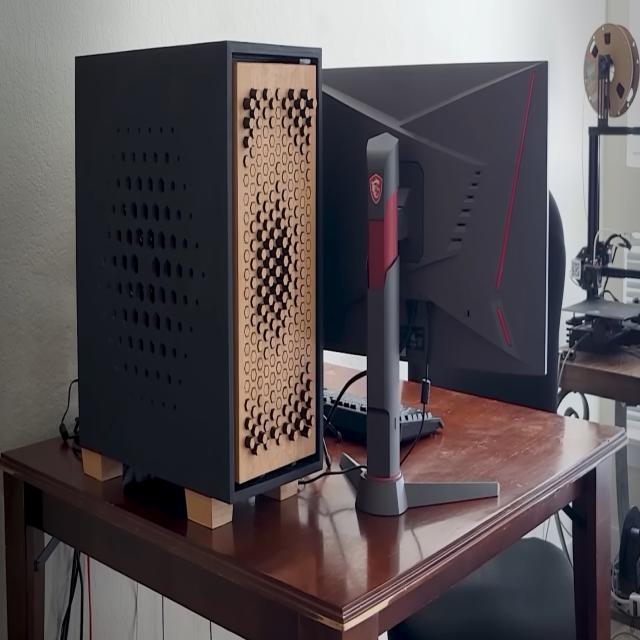computers: (323, 63, 548, 513), (420, 379, 428, 409), (415, 429, 421, 439), (410, 450, 410, 450)
electronics: (76, 42, 322, 502), (323, 63, 547, 383), (340, 132, 499, 515), (325, 133, 441, 513), (231, 60, 322, 483), (433, 192, 565, 410), (565, 23, 640, 359), (567, 23, 640, 351), (570, 23, 640, 298), (356, 132, 403, 513), (340, 452, 499, 515), (564, 234, 640, 352), (569, 209, 640, 299), (569, 218, 638, 299), (583, 23, 640, 116), (569, 230, 632, 299), (564, 297, 640, 352), (123, 467, 188, 519), (567, 313, 640, 352), (618, 506, 640, 605), (617, 506, 640, 597), (60, 548, 83, 639), (61, 550, 83, 639), (618, 25, 640, 109), (563, 298, 640, 321), (331, 393, 367, 442), (399, 404, 442, 442), (59, 379, 81, 453), (59, 379, 81, 452), (569, 247, 601, 293), (323, 388, 366, 413), (554, 511, 572, 563), (34, 537, 60, 571), (611, 592, 640, 621), (59, 416, 81, 452), (589, 124, 640, 137), (397, 189, 409, 240), (558, 348, 575, 379), (323, 388, 339, 415), (577, 392, 589, 420), (589, 124, 619, 135), (42, 538, 59, 555), (420, 379, 430, 407), (557, 388, 571, 406), (564, 406, 580, 417), (341, 456, 355, 468), (590, 167, 598, 180), (624, 487, 628, 503), (86, 565, 89, 582), (414, 433, 419, 443), (367, 445, 369, 460), (592, 141, 598, 146), (36, 558, 39, 567), (43, 556, 46, 565), (616, 87, 619, 96), (341, 455, 343, 468), (87, 453, 91, 459), (80, 613, 82, 625), (87, 564, 89, 572), (209, 507, 211, 515), (70, 591, 72, 599), (593, 158, 596, 163), (187, 500, 189, 506), (592, 176, 595, 179), (608, 291, 611, 294), (591, 204, 594, 207), (566, 505, 570, 507), (590, 160, 591, 167), (590, 212, 593, 214), (404, 501, 405, 507), (564, 309, 570, 310), (356, 478, 359, 480), (623, 466, 625, 469), (435, 335, 437, 338), (589, 181, 591, 184), (628, 132, 634, 133), (562, 509, 564, 511), (566, 508, 568, 510), (65, 443, 67, 445), (637, 128, 640, 129), (352, 477, 353, 480), (624, 480, 625, 483), (585, 402, 586, 405), (560, 370, 561, 373), (572, 519, 573, 522), (445, 418, 446, 421), (630, 271, 633, 272), (71, 571, 73, 572), (81, 609, 82, 610), (416, 409, 417, 410), (329, 415, 330, 416), (81, 615, 81, 619), (183, 494, 183, 494), (358, 494, 361, 494), (625, 462, 625, 462), (190, 516, 190, 516), (46, 556, 48, 556)
fans: (400, 303, 432, 465), (298, 432, 351, 484), (324, 370, 366, 429), (60, 550, 83, 639), (59, 378, 80, 452), (400, 302, 417, 352), (351, 465, 366, 470), (89, 614, 90, 639), (87, 567, 89, 579), (89, 595, 90, 608), (333, 426, 336, 430), (87, 582, 89, 587), (87, 558, 88, 566)
